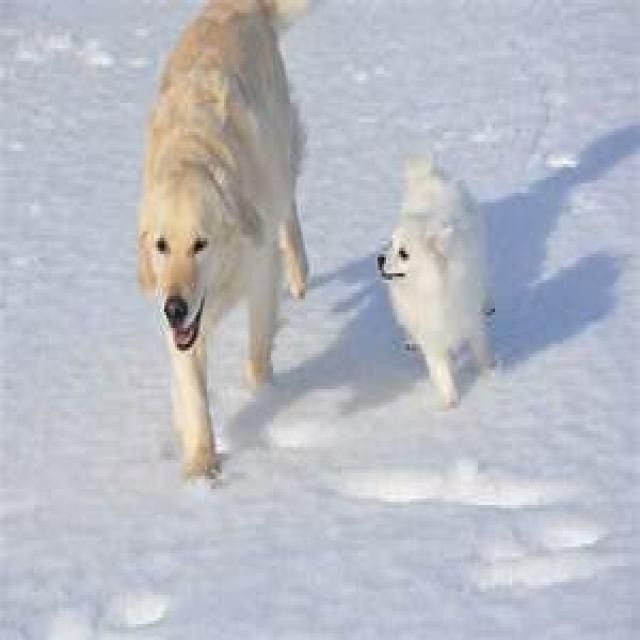animal: (136, 0, 309, 481), (378, 153, 497, 411)
